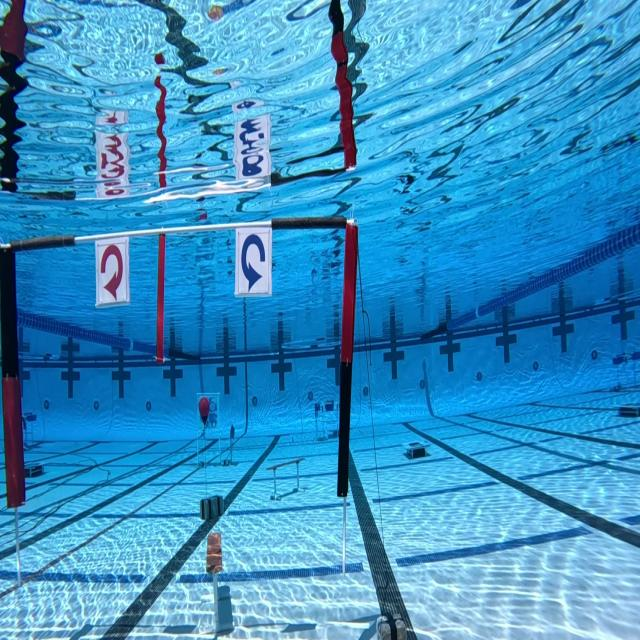blue_side: (234, 227, 273, 297)
red_side: (95, 234, 130, 309)
